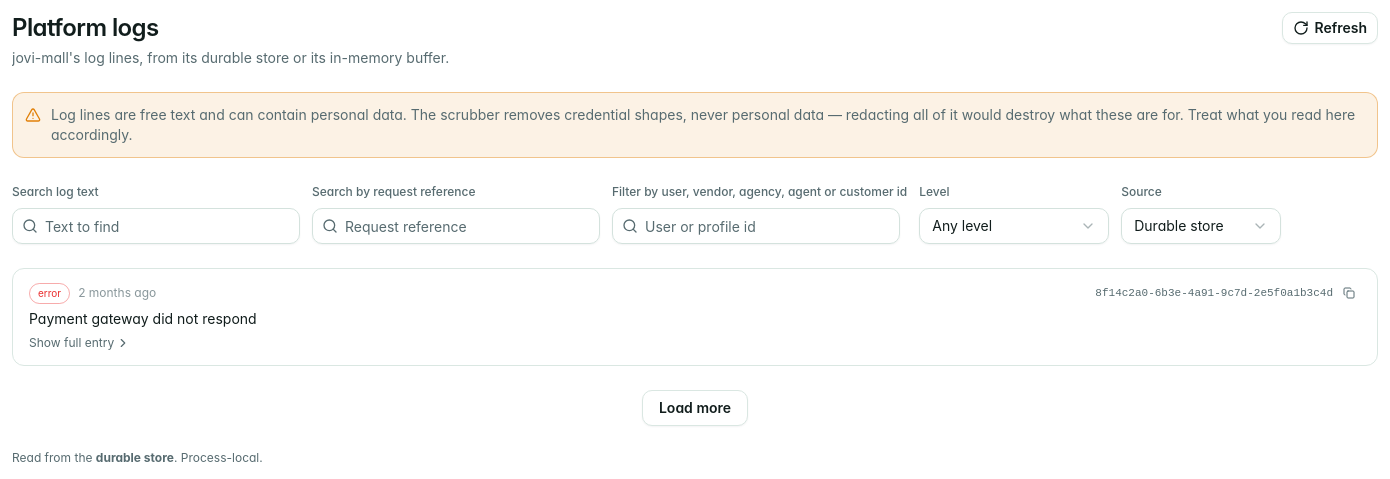
Platform logs › labels the level filter as at-or-above rather than equal-to
Expected: the text "free text" is shown, [51,106,407,123]
Click the dropdown labelled "level" at (1014, 226), box [919,208,1109,244]
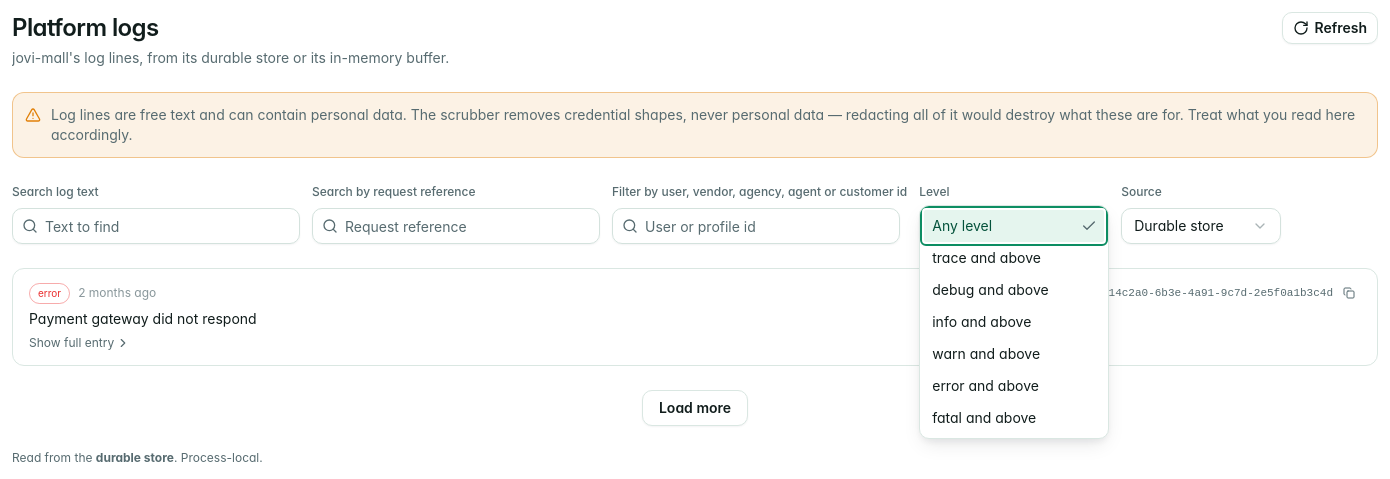
Result: the option "warn and above" is shown at [932,345,1040,362]
